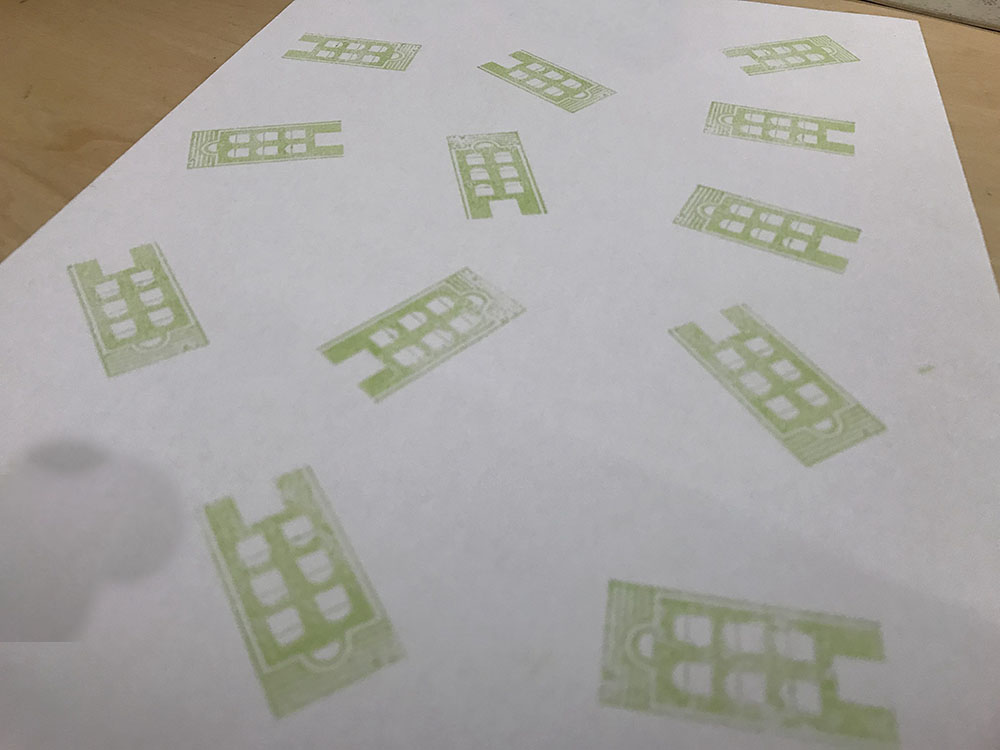build: (185, 448, 428, 725), (597, 568, 908, 747), (648, 281, 919, 485), (312, 266, 533, 417), (54, 235, 234, 400), (659, 176, 880, 287), (462, 31, 627, 123), (687, 88, 873, 169), (177, 112, 373, 182), (438, 124, 559, 237), (269, 23, 442, 91), (708, 19, 869, 90)
